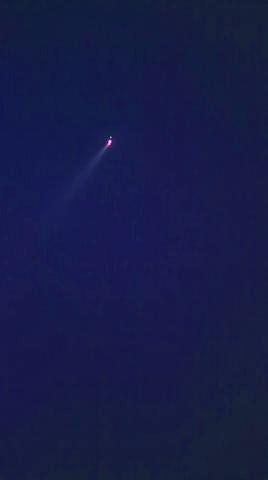Plane: (77, 122, 122, 188)
